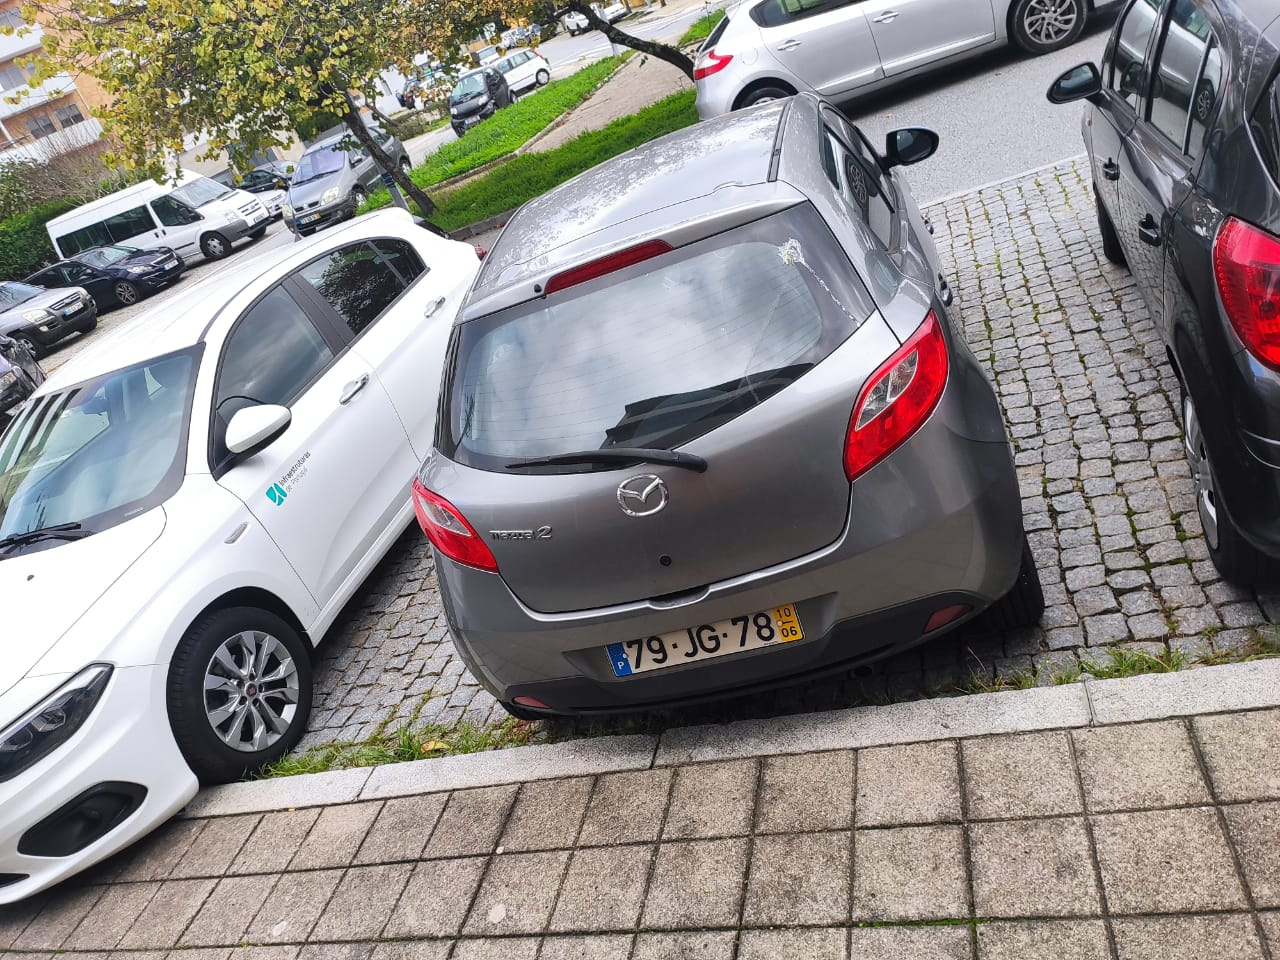carplate: (607, 599, 804, 685)
